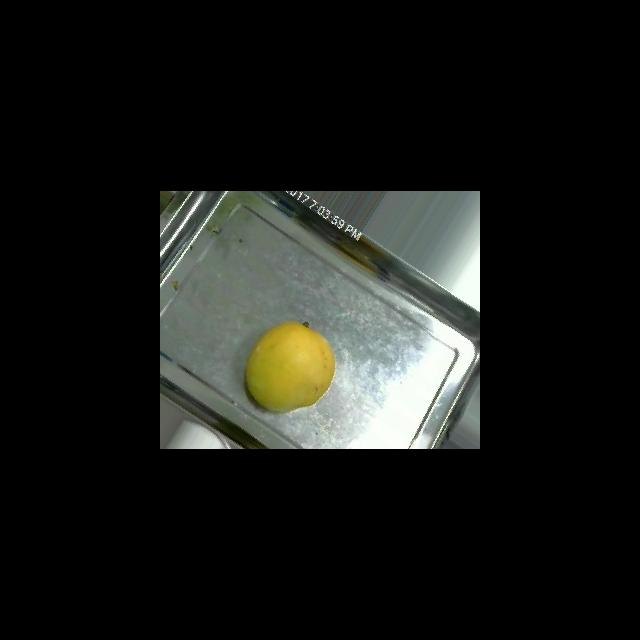Mango: (243, 319, 336, 413)
